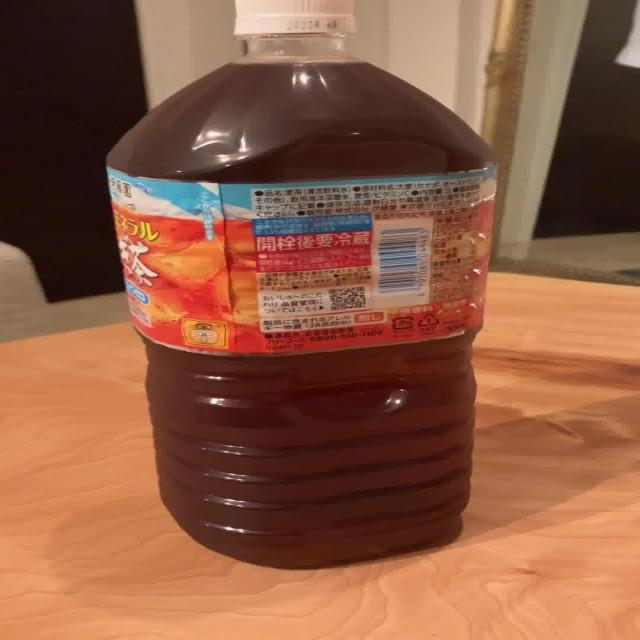good: (104, 0, 504, 573)
